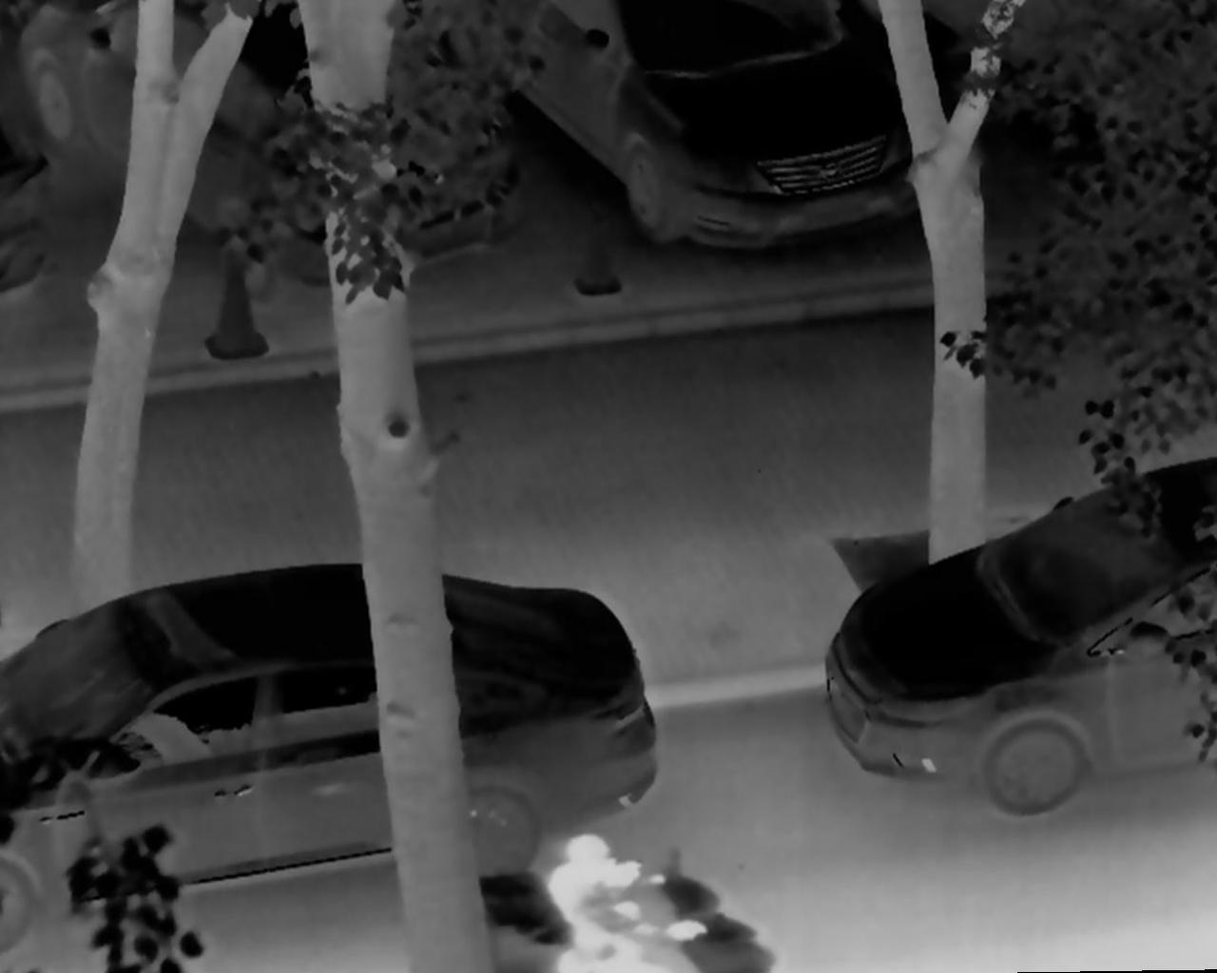person: (533, 822, 711, 973)
